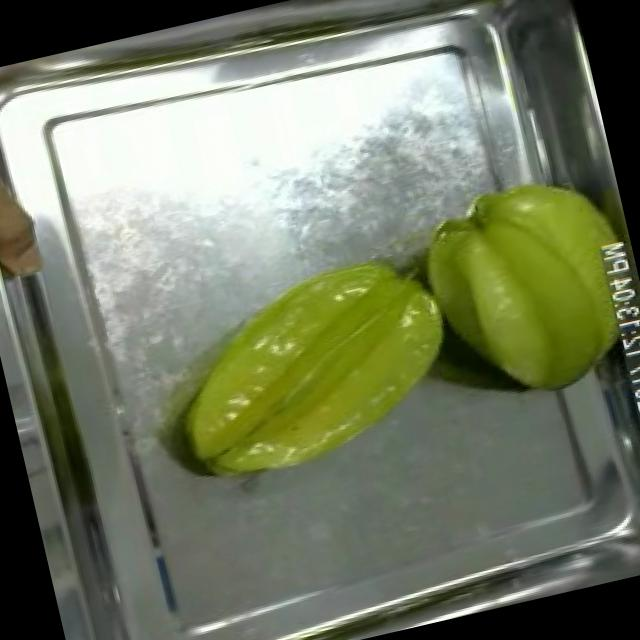fruit: (132, 232, 484, 508), (394, 149, 640, 426), (0, 63, 59, 294)
